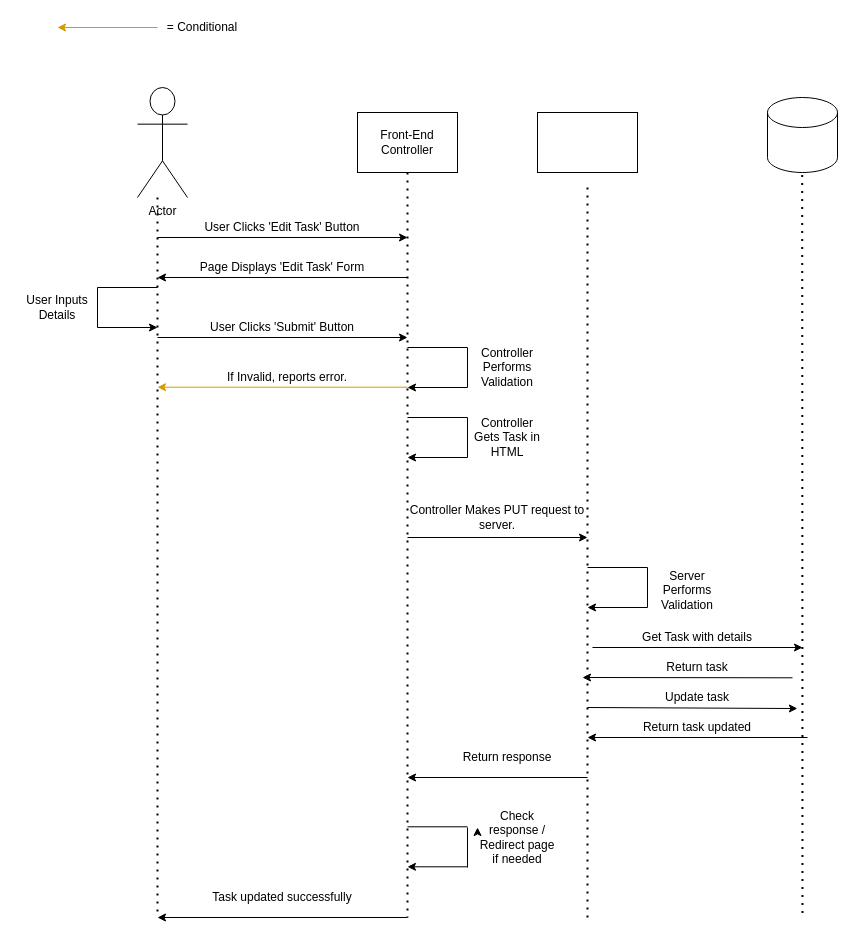
Image size: 855x943. Some labels were removed from this diagram. The shapes that lost their labels are listed below. From the top down, each one's centre as x and y in pixels, then its label:
the point at 587,142: Server
the point at 802,134: Database
